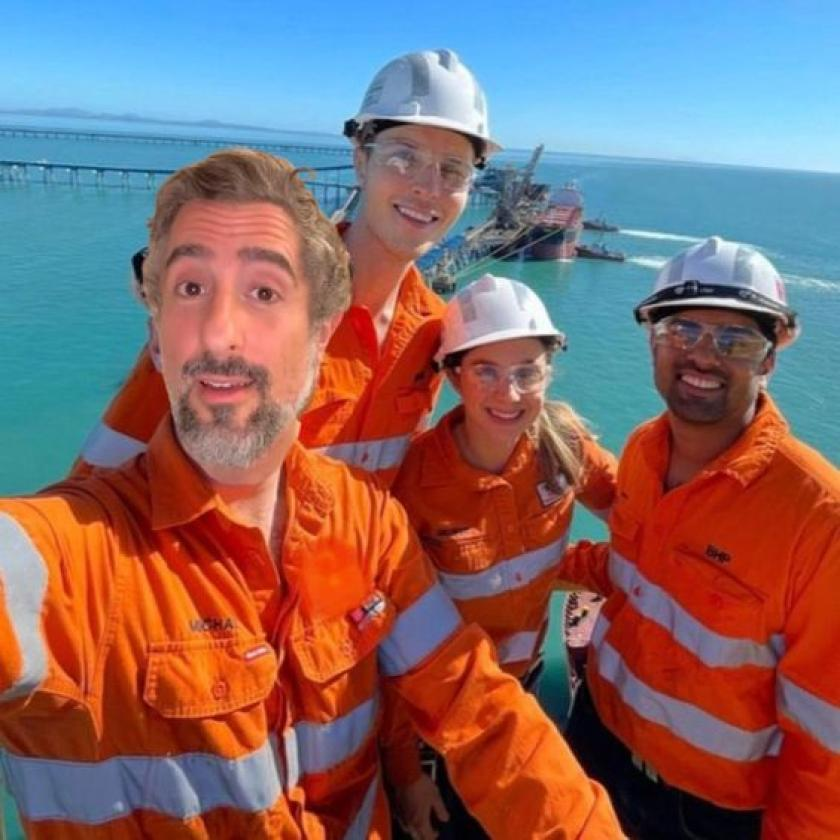Con_casco: (628, 217, 800, 451), (330, 36, 517, 251), (436, 262, 566, 451)
Sin_casco: (103, 128, 371, 501)
